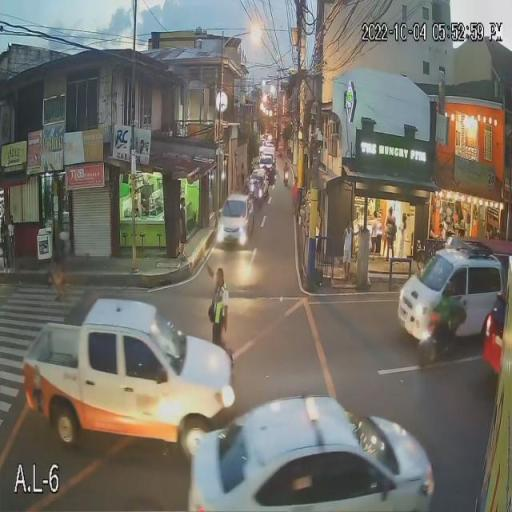motorcycle: (415, 311, 463, 364)
rider: (435, 289, 450, 340)
